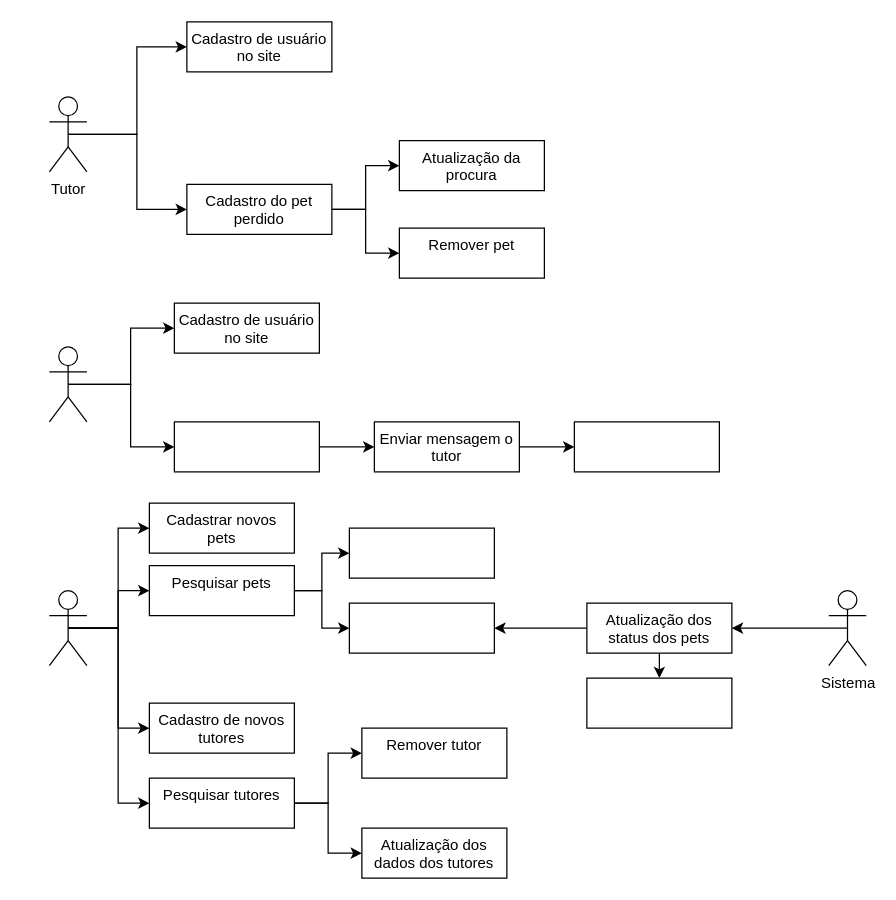
Some shapes in this 896 by 900 pixel diagram are drawn without their labels. The shapes that lost their labels are listed below. From the top down, each one's box as (x1, y1, x2, y2) in pixels, then its label:
(48, 346, 87, 422): Anônimo
(173, 421, 319, 472): Pesquisa dos pets perdidos
(573, 421, 719, 472): Atualização de localidade
(348, 527, 494, 578): Remoção dos pets
(48, 589, 87, 666): Administrador
(348, 602, 494, 653): Atualização dos dados dos pets
(586, 677, 732, 728): Notificação do tutor
